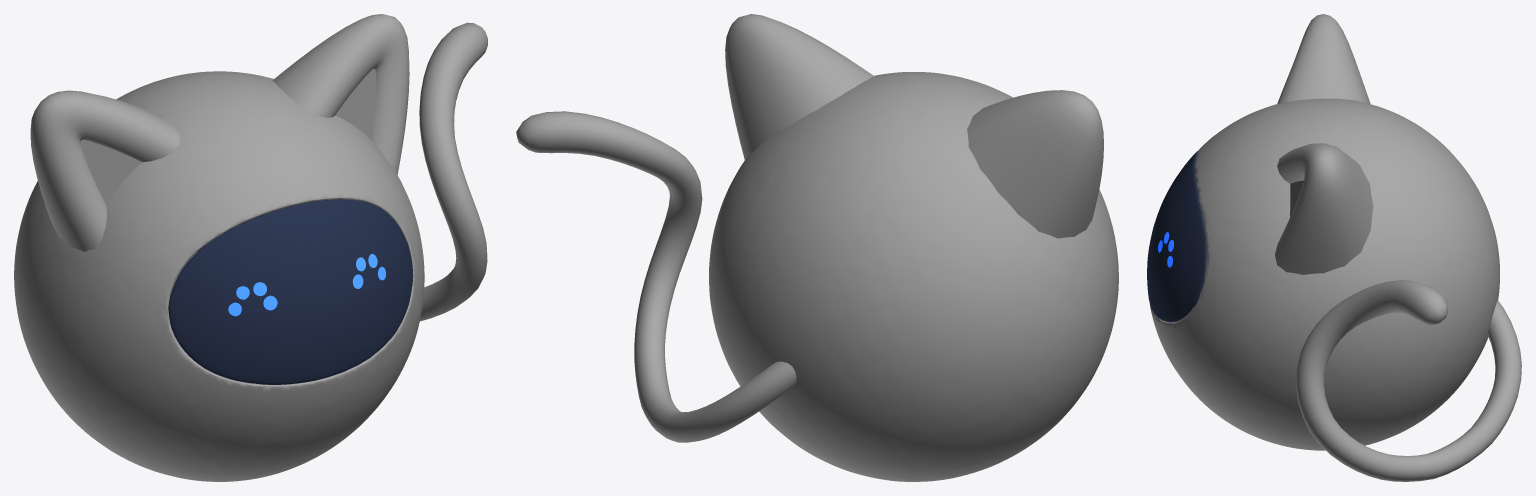
File: robo_round_cat_astronaut-v1.glb
The picture shows the model from 3 angles, left to right: view 1: azimuth 30°, elevation 25°; view 2: azimuth 150°, elevation 25°; view 3: azimuth 270°, elevation 25°; orthographic projection. The views are drawn at different scales.
Visible parts, largest first — view 1: Icosphere.003_5, Cube.002_3, Cube.001_2, Icosphere.001_4; view 2: Icosphere.003_5, Cube.002_3, Cube.001_2; view 3: Icosphere.003_5, Cube.001_2, Cube.002_3.
Boxes of the visible parts, box(x1,y1,x2,y2) form: Icosphere.003_5: box(14, 71, 424, 481); Cube.002_3: box(30, 14, 409, 251); Cube.001_2: box(419, 22, 487, 321); Icosphere.001_4: box(228, 254, 385, 316); Icosphere.003_5: box(709, 72, 1118, 481); Cube.002_3: box(725, 14, 1103, 238); Cube.001_2: box(516, 111, 796, 442); Icosphere.003_5: box(1147, 98, 1499, 450); Cube.001_2: box(1296, 280, 1521, 481); Cube.002_3: box(1275, 14, 1373, 274).
Size of the model in its own units: 2.66 by 2 by 1.94.
